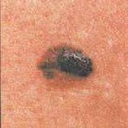Melanoma: (46, 46, 91, 76)
